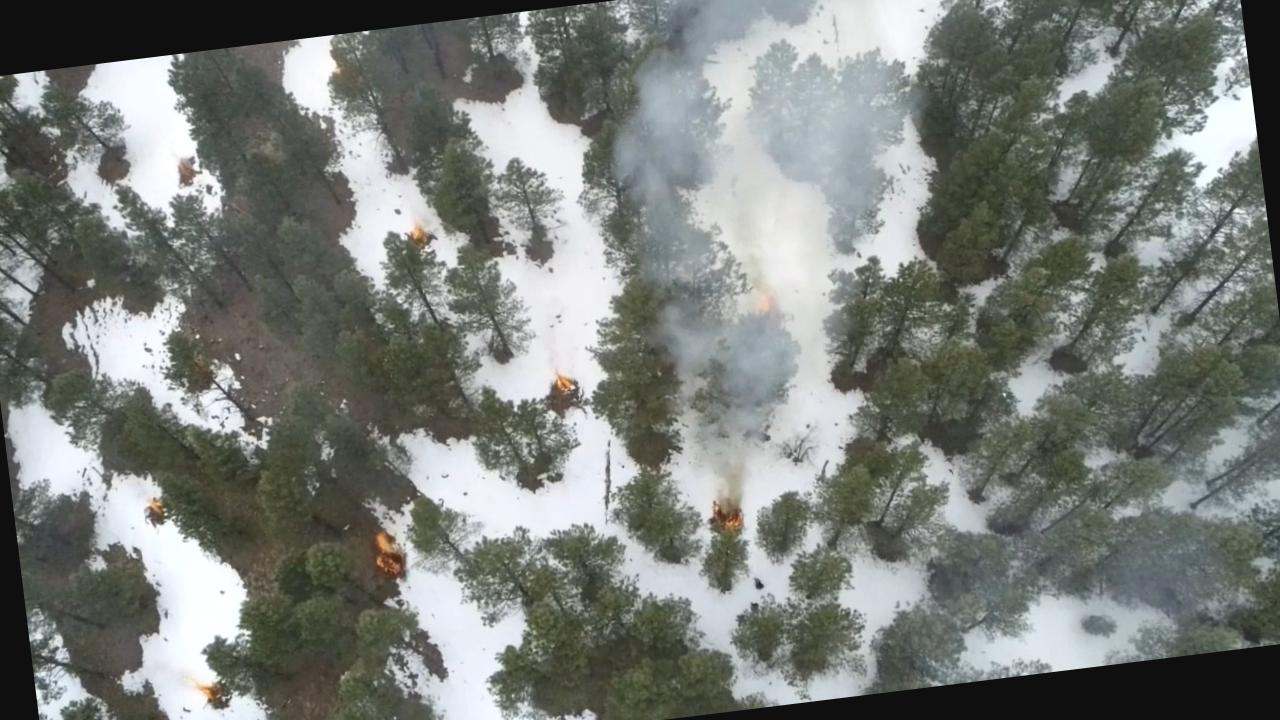fire: (364, 530, 410, 588), (742, 268, 786, 328), (704, 487, 752, 540), (540, 366, 576, 404), (400, 225, 432, 252)
smoke: (589, 0, 958, 235), (632, 211, 857, 416)
